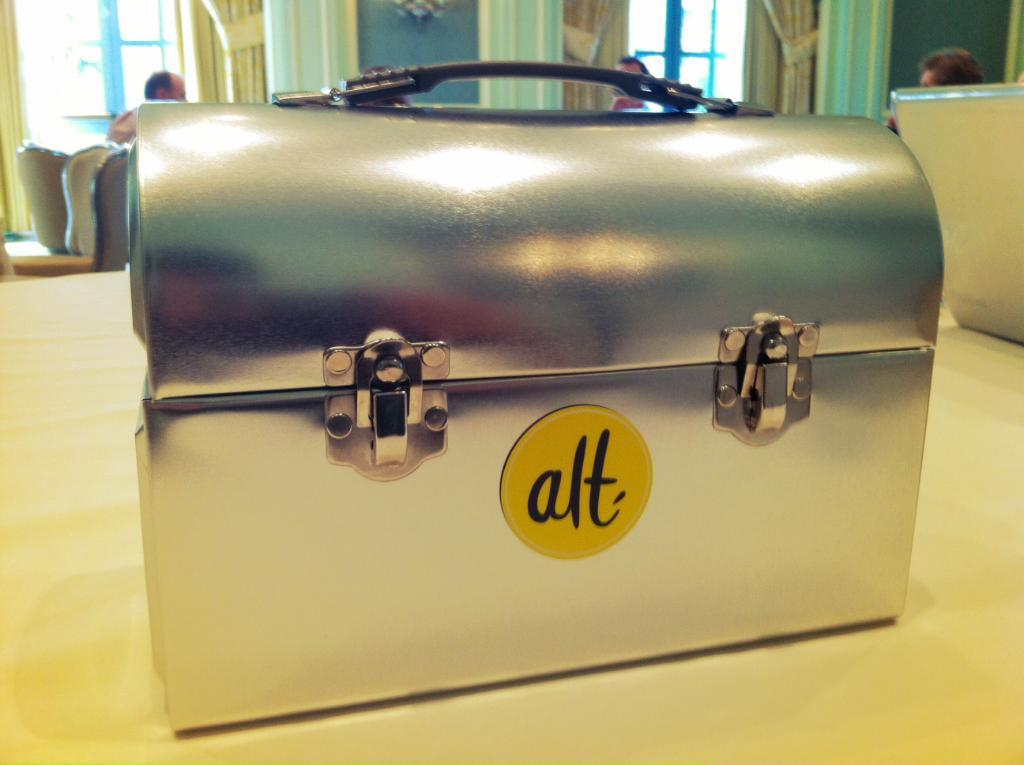Luggage-and-bags: (126, 58, 947, 736)
